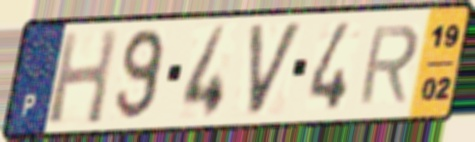4: (178, 22, 230, 123), (305, 19, 354, 114)
9: (113, 25, 167, 126)
H: (44, 26, 121, 128)
R: (355, 22, 422, 108)
V: (246, 18, 307, 120)
